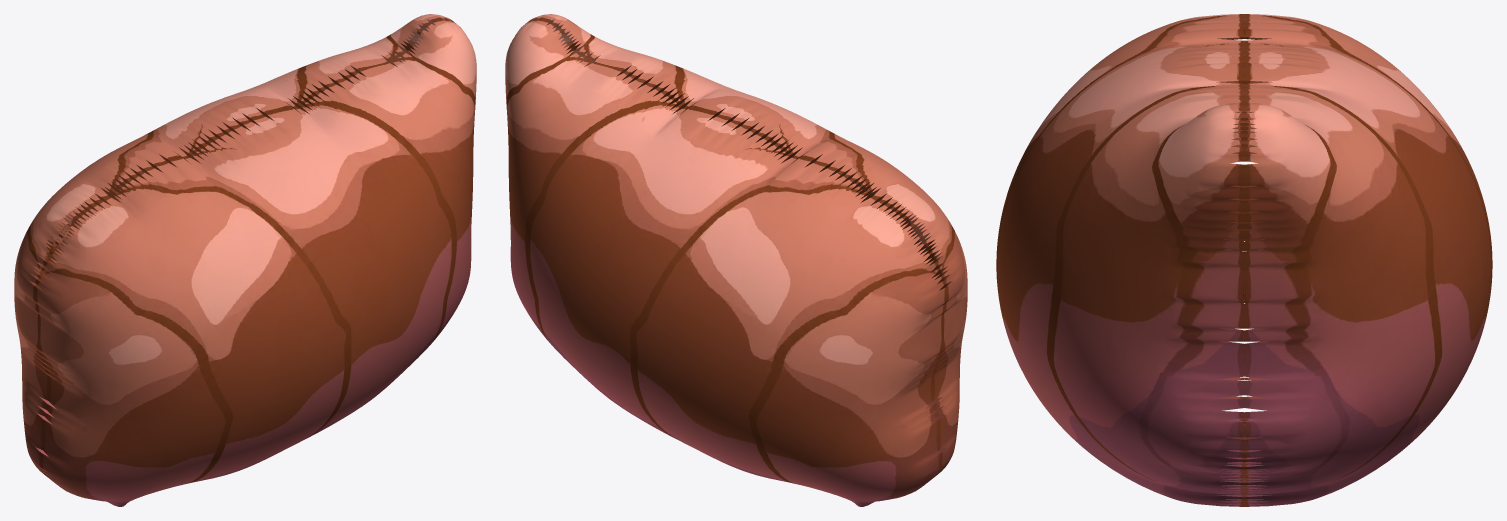
File: ravine_rim.glb
3 views of the same model, side by side, from view 1: azimuth 30°, elevation 25°; view 2: azimuth 150°, elevation 25°; view 3: azimuth 270°, elevation 25° (orthographic). The views are drawn at different scales.
Parts seen in each view (by area): view 1: ravine_rim; view 2: ravine_rim; view 3: ravine_rim.
Boxes of the visible parts, x1,y1,x2,y2 form: ravine_rim: [14, 14, 476, 506]; ravine_rim: [505, 14, 967, 506]; ravine_rim: [996, 14, 1492, 506].
Bounding box in the file's own units: 0.989 × 0.8489 × 0.7126.
1 material, 1 textured.
